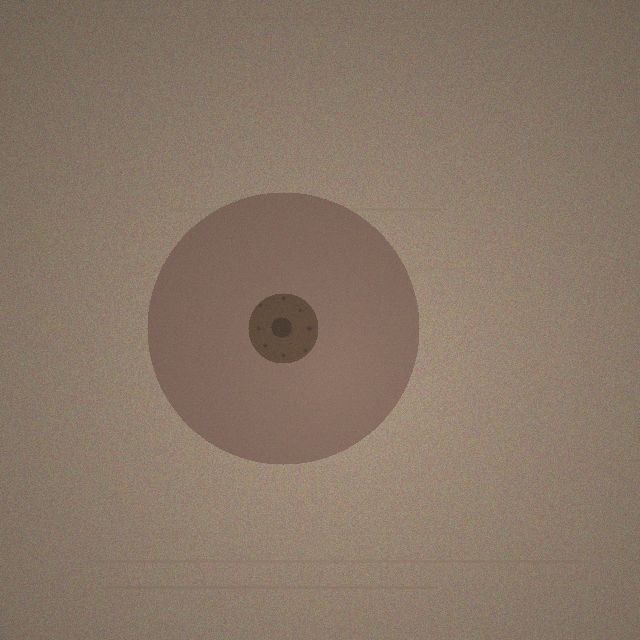cold_weld: (147, 192, 419, 464)
